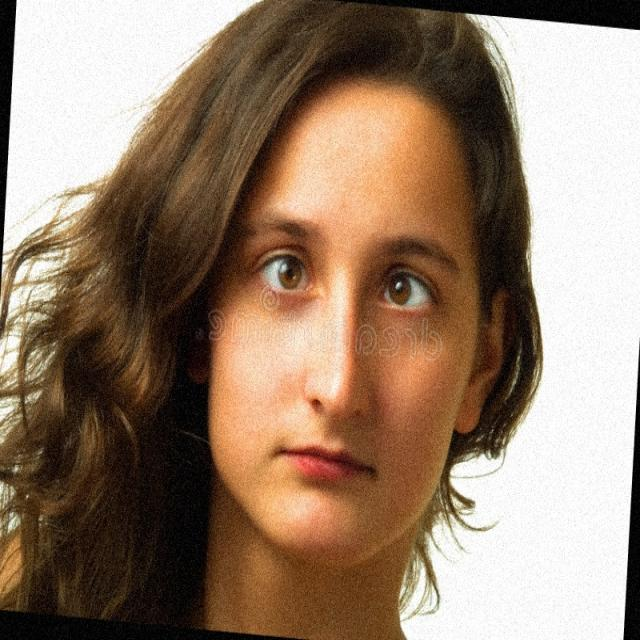Healthy-Eye: (248, 240, 323, 308)
Squint: (378, 249, 446, 316)
